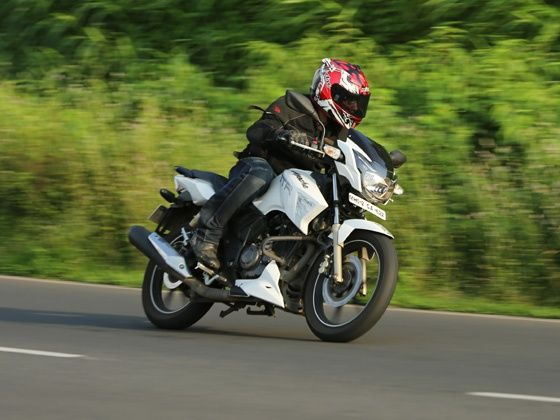helmet: (312, 52, 373, 129)
